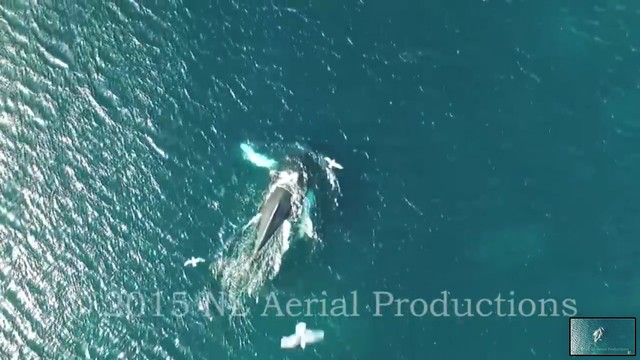whale: (205, 127, 329, 307)
